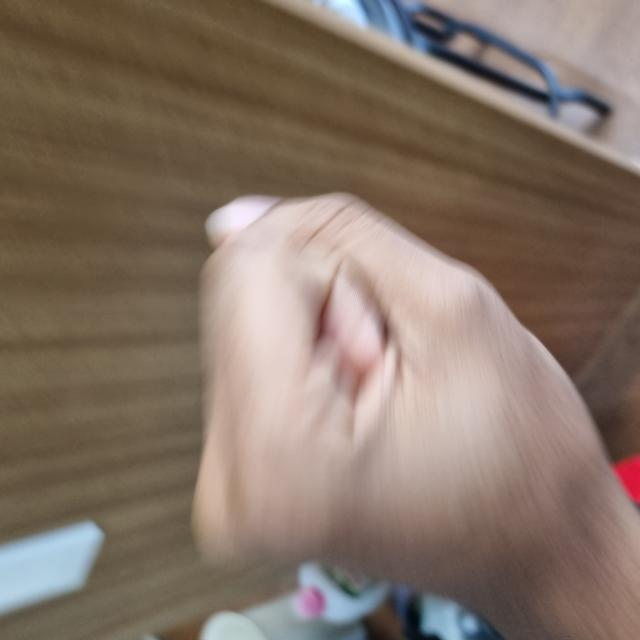Rock: (38, 198, 443, 604)
